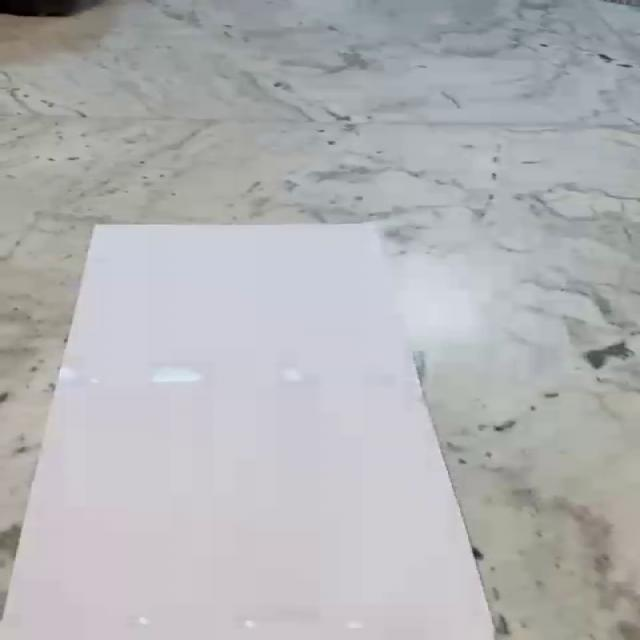road: (0, 223, 497, 640)
